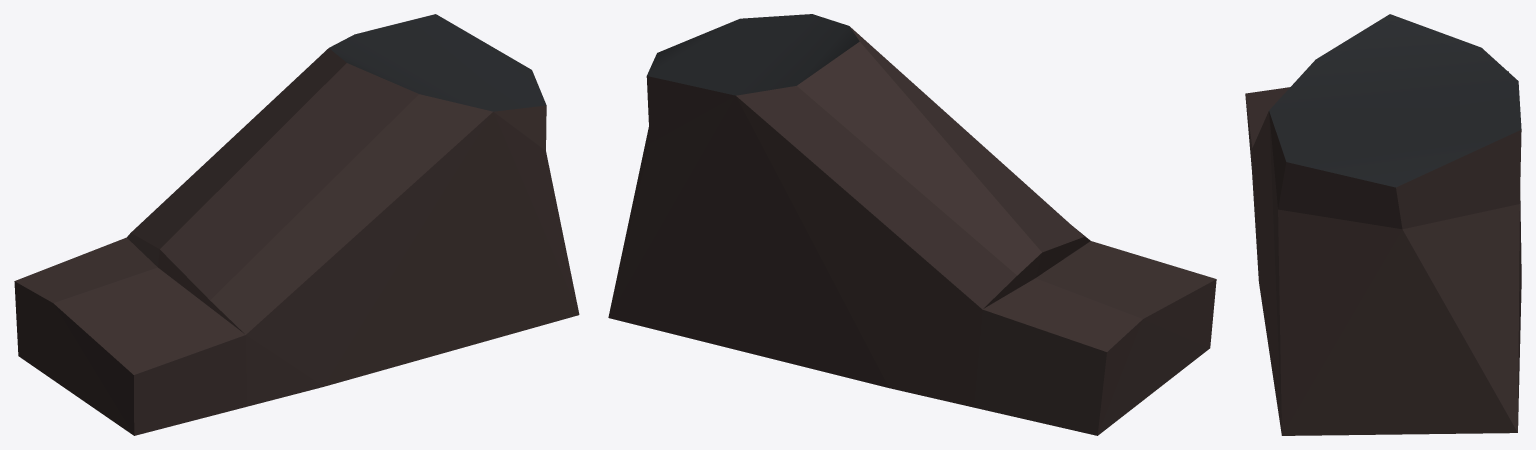
The model's file is SM_Prop_Shoes_03.fbx.
The picture shows the model from 3 angles, left to right: view 1: azimuth 30°, elevation 25°; view 2: azimuth 150°, elevation 25°; view 3: azimuth 270°, elevation 25°; orthographic projection. The views are drawn at different scales.
Visible parts, largest first — view 1: SM_Prop_Shoes_03; view 2: SM_Prop_Shoes_03; view 3: SM_Prop_Shoes_03.
Part boxes in pixels (bbox=[...]): SM_Prop_Shoes_03: bbox=[14, 14, 579, 435]; SM_Prop_Shoes_03: bbox=[608, 14, 1216, 435]; SM_Prop_Shoes_03: bbox=[1245, 14, 1521, 435].
Size of the model in its own units: 22.67 by 12.19 by 9.74.
